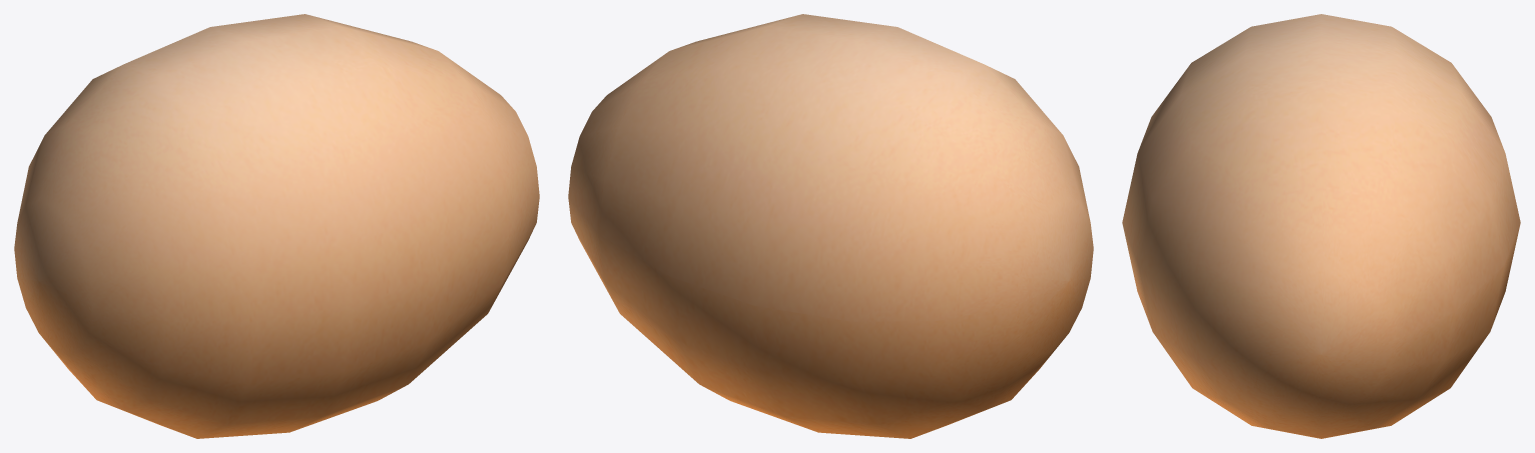
The model's file is jidan.FBX.
3 views of the same model, side by side, from view 1: azimuth 30°, elevation 25°; view 2: azimuth 150°, elevation 25°; view 3: azimuth 270°, elevation 25° (orthographic). The views are drawn at different scales.
Parts seen in each view (by area): view 1: jidan; view 2: jidan; view 3: jidan.
Boxes of the visible parts, <box> form: jidan: <box>14,14,539,438</box>; jidan: <box>568,14,1093,438</box>; jidan: <box>1122,14,1520,438</box>.
Size of the model in its own units: 8.06 by 5.88 by 5.88.
